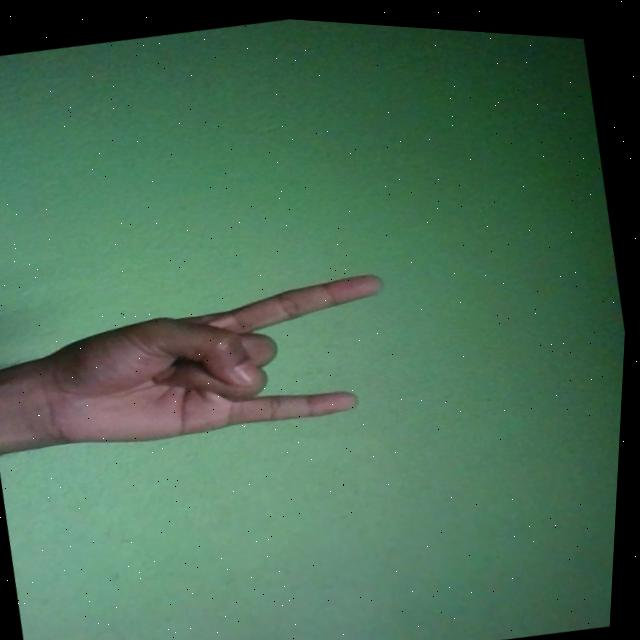Rock On: (23, 248, 412, 473)
